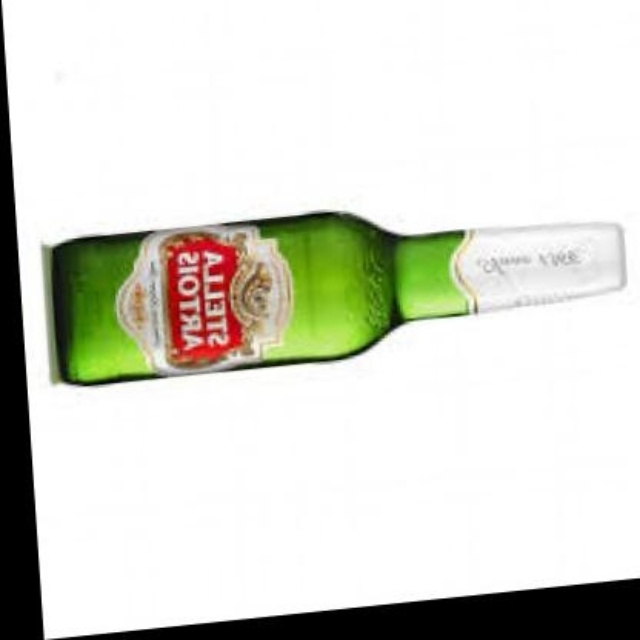trash: (52, 212, 625, 382)
